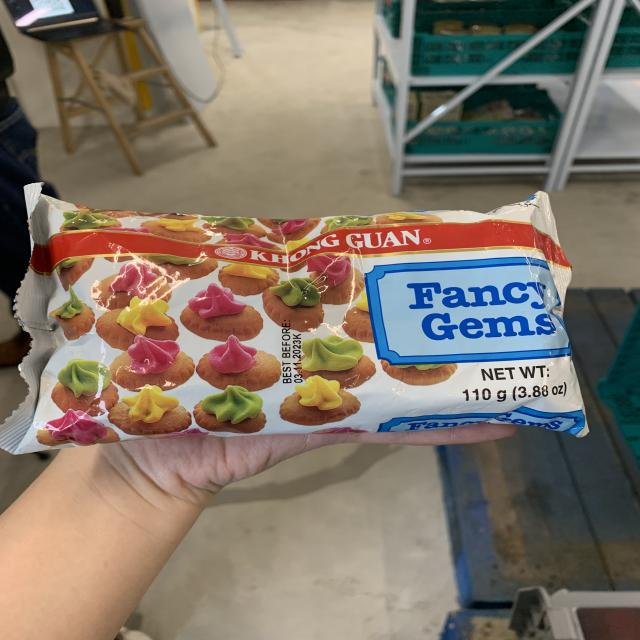object_name: (17, 197, 573, 427)
